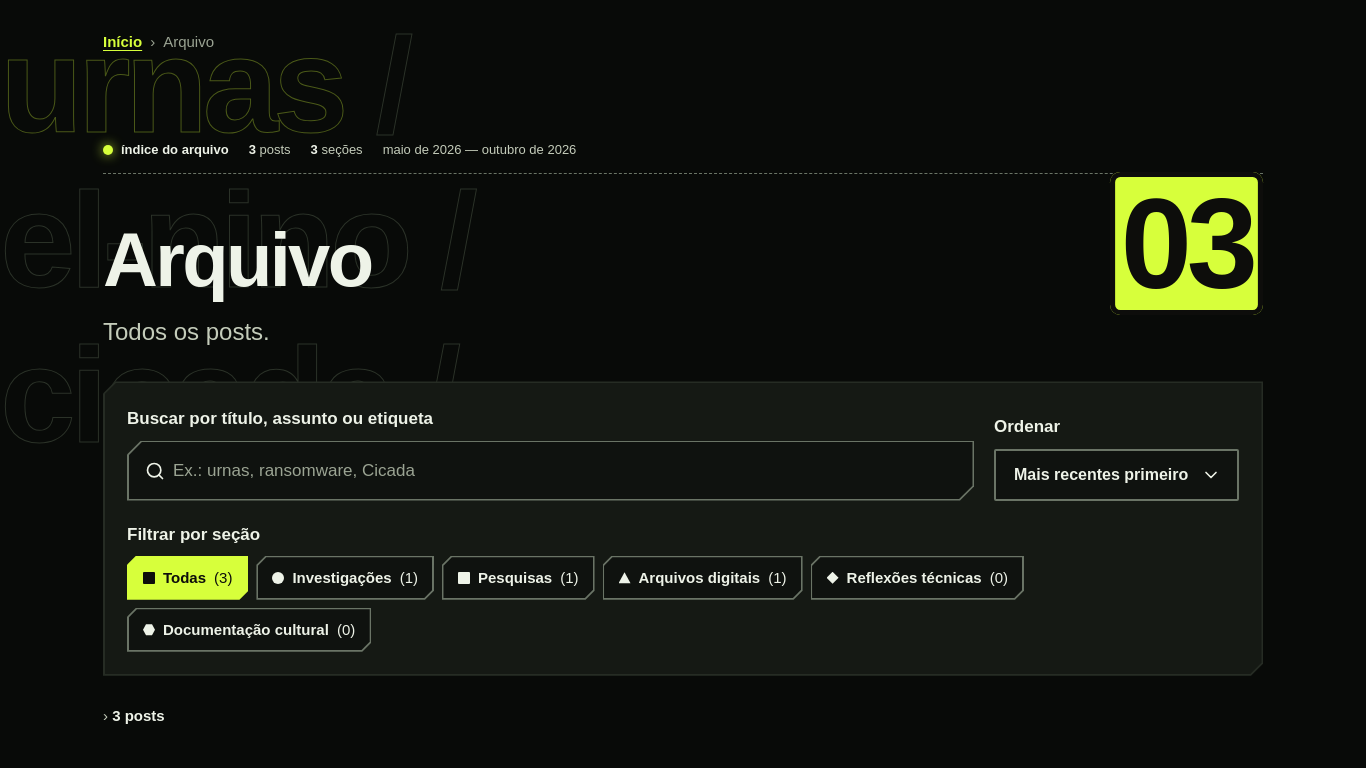
Scenario: <ArchiveBrowser /> › busca sem diferenciar acento e atualiza a URL
Step 1. Type "nino" into the search field labelled "Buscar por título, assunto ou etiqueta" → (570, 471), box [173,449,968,492]
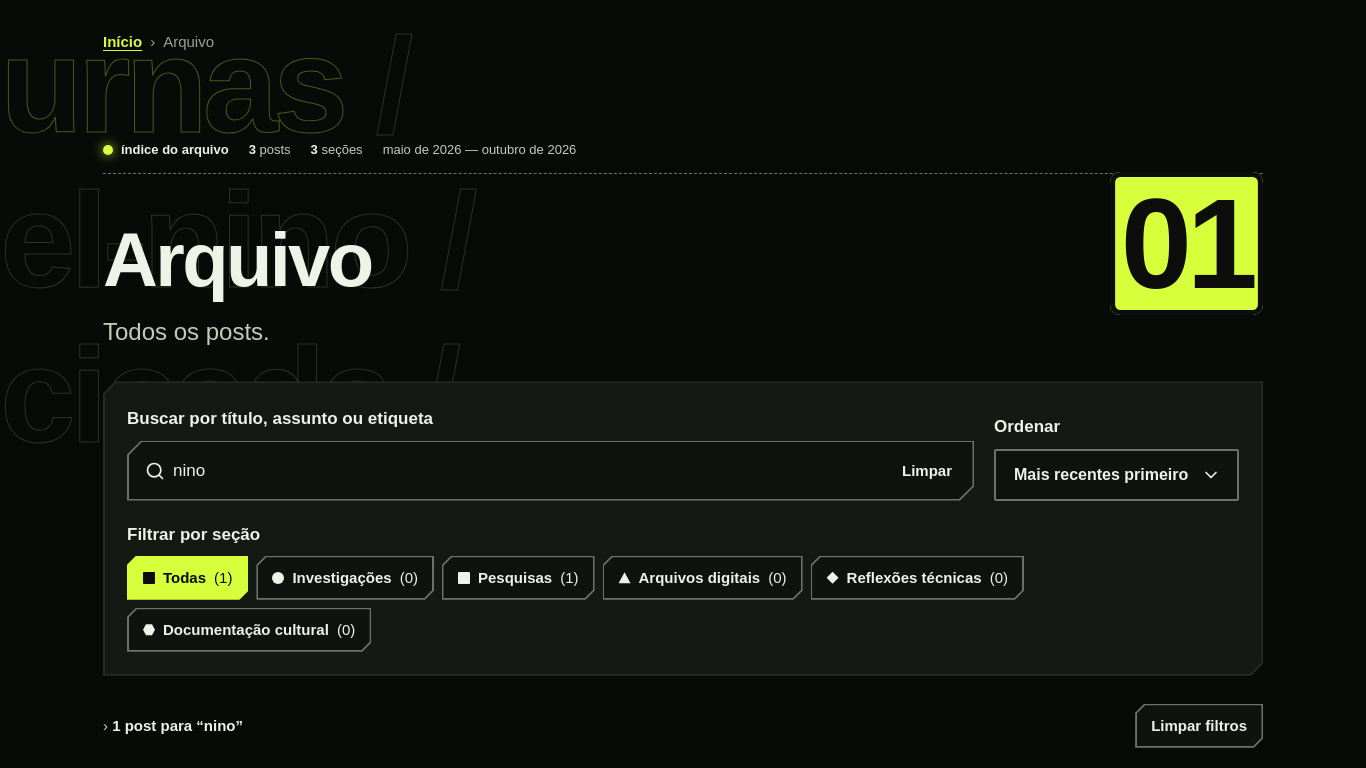
Expected: the text "1 post para “nino”" is shown, [112,717,243,734]
